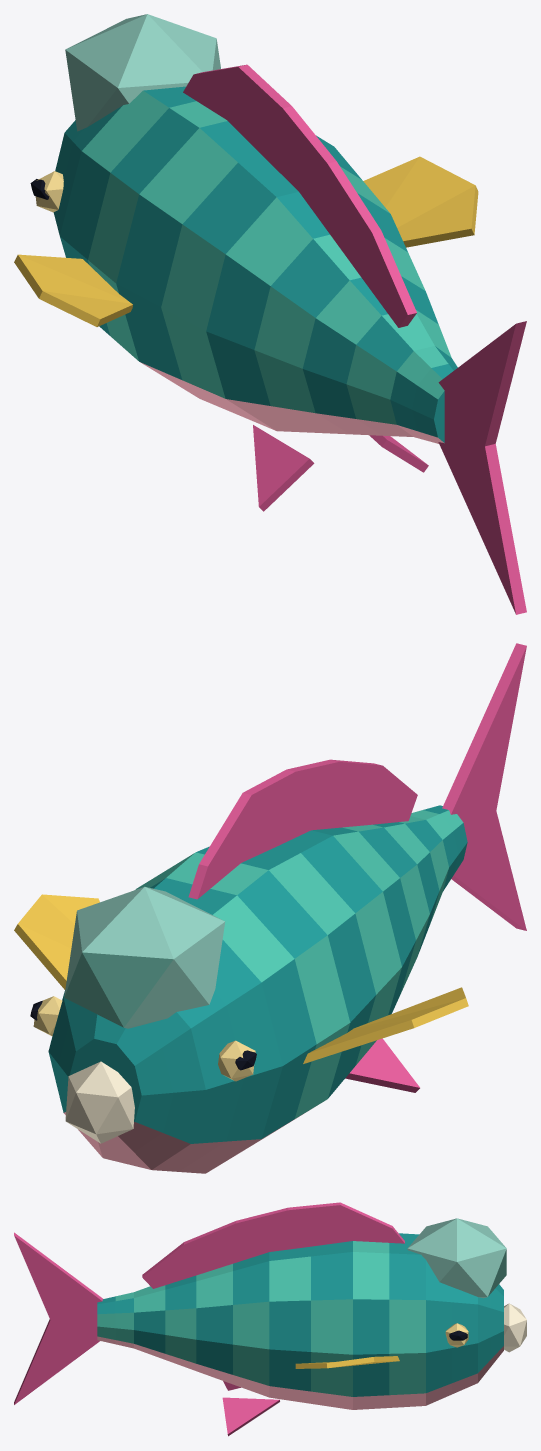
The model's file is boulderhead-parrotfish.glb.
The picture shows the model from 3 angles, top to bottom: view 1: azimuth 30°, elevation 25°; view 2: azimuth 150°, elevation 25°; view 3: azimuth 270°, elevation 25°; orthographic projection. The views are drawn at different scales.
Visible parts, largest first — view 1: boulderhead_parrotfish; view 2: boulderhead_parrotfish; view 3: boulderhead_parrotfish.
Boxes of the visible parts, x1,y1,x2,y2 form: boulderhead_parrotfish: [14, 14, 526, 614]; boulderhead_parrotfish: [14, 643, 526, 1173]; boulderhead_parrotfish: [14, 1202, 526, 1436].
Size of the model in its own units: 2.84 by 2.21 by 4.92.
